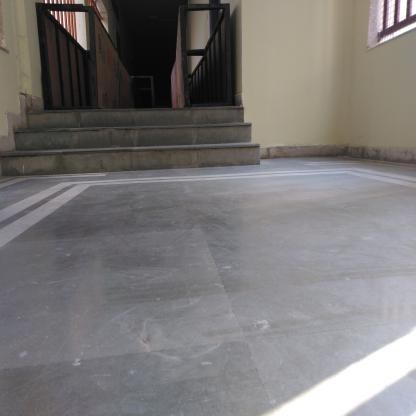stairs: (25, 107, 242, 175)
